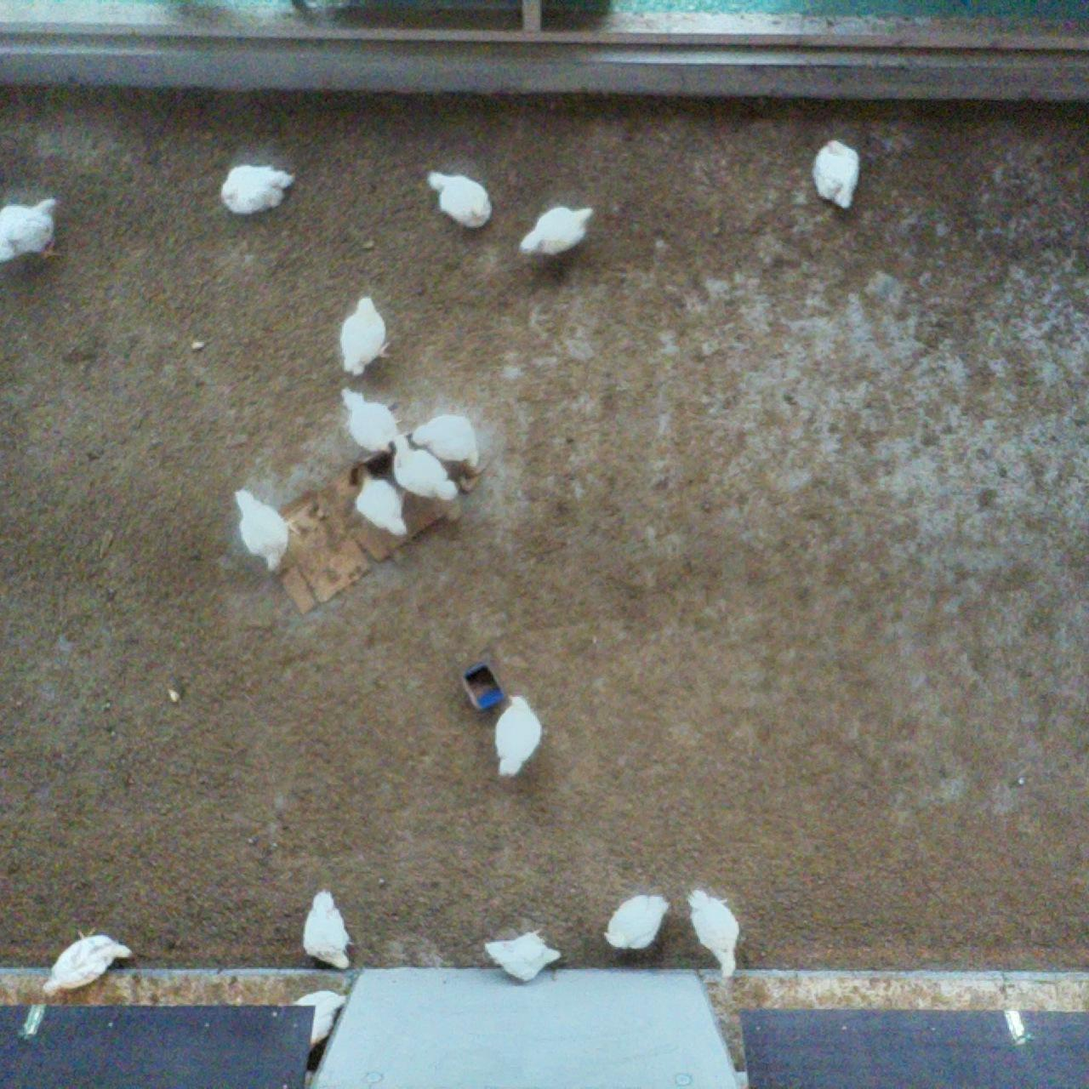chicken: (41, 926, 135, 1000), (229, 485, 301, 576), (683, 886, 743, 981), (389, 433, 462, 506), (336, 383, 406, 459), (213, 161, 300, 221), (480, 925, 564, 986), (298, 883, 355, 972), (336, 293, 395, 378), (490, 691, 546, 779), (423, 165, 494, 233), (514, 201, 597, 258), (409, 411, 484, 473), (808, 133, 865, 214), (0, 193, 61, 268), (599, 892, 673, 953), (352, 470, 413, 541), (289, 988, 349, 1053)
